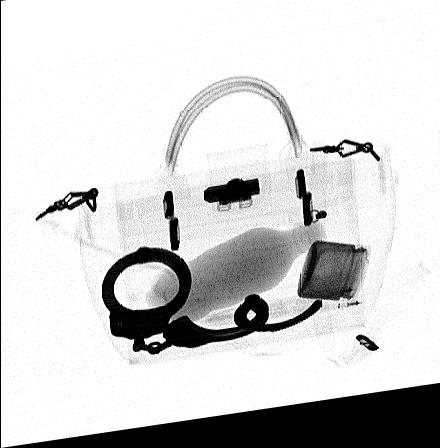HandCuffs: (97, 249, 324, 360)
